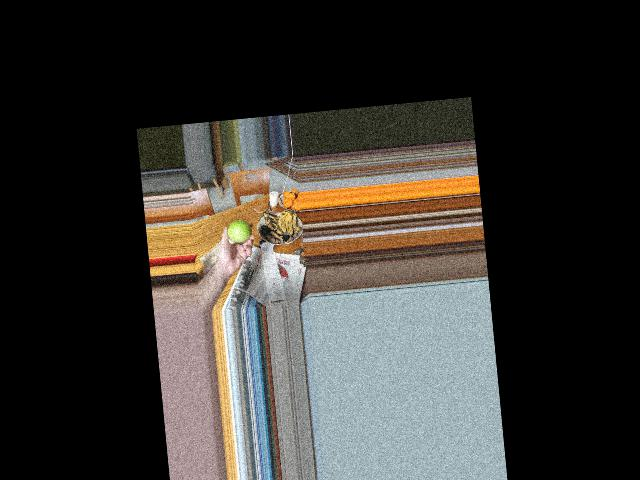apple: (226, 215, 251, 244)
